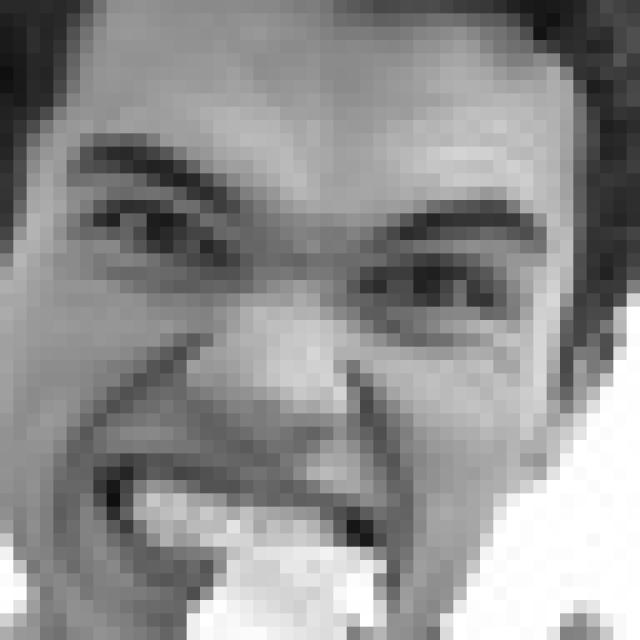angry: (66, 132, 552, 594)
